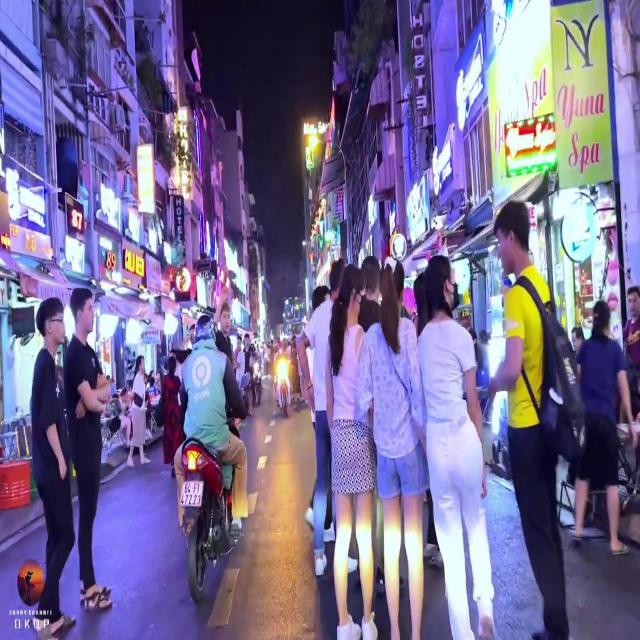bien_trang: (184, 478, 202, 508)
